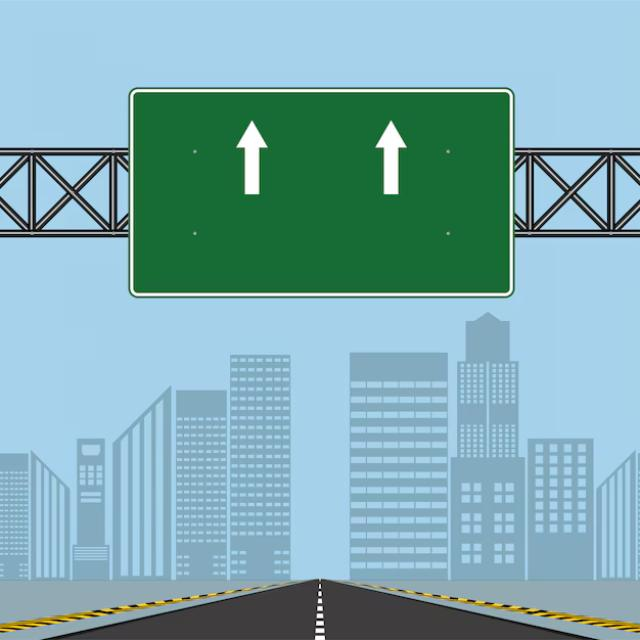Billboard_overhead: (122, 78, 544, 319)
Roadcorner: (43, 583, 279, 639), (409, 594, 591, 639)
Roadlane: (296, 583, 344, 639)
